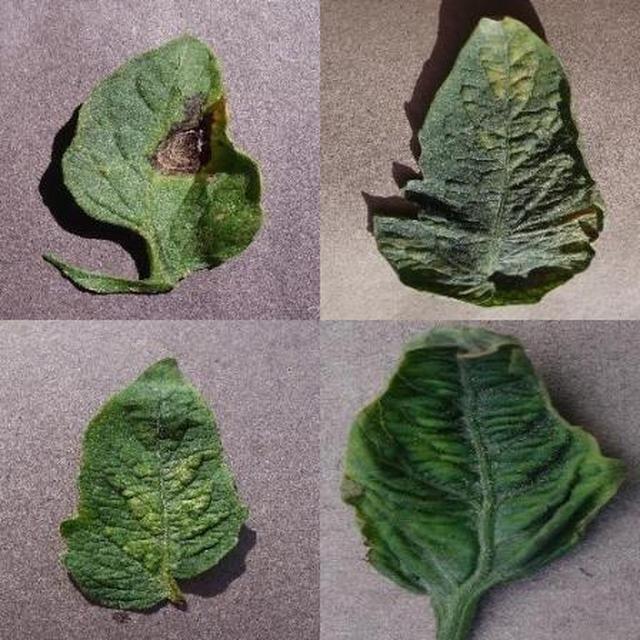Early Blight Leaf: (220, 226, 640, 640)
